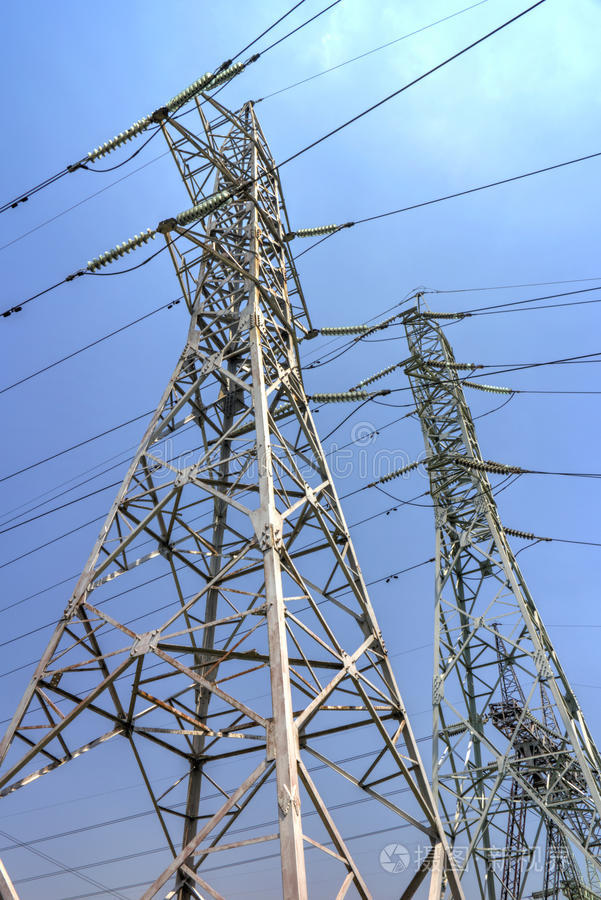insulator: (170, 63, 241, 108), (87, 114, 148, 166), (85, 226, 155, 271), (177, 191, 234, 223), (312, 389, 367, 408), (316, 321, 369, 338), (297, 220, 338, 239)
